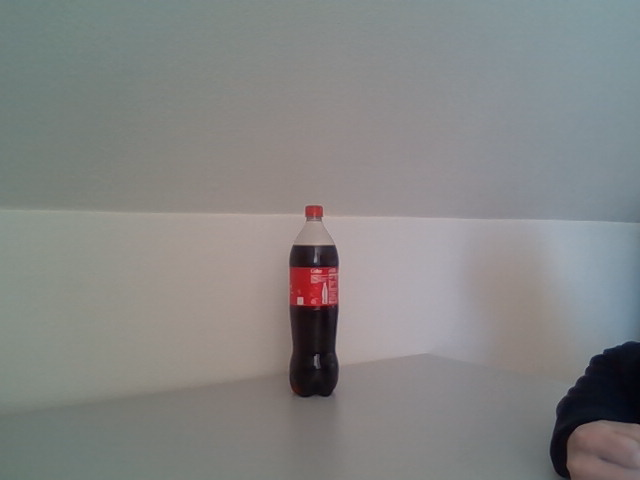bottle: (288, 204, 340, 398)
